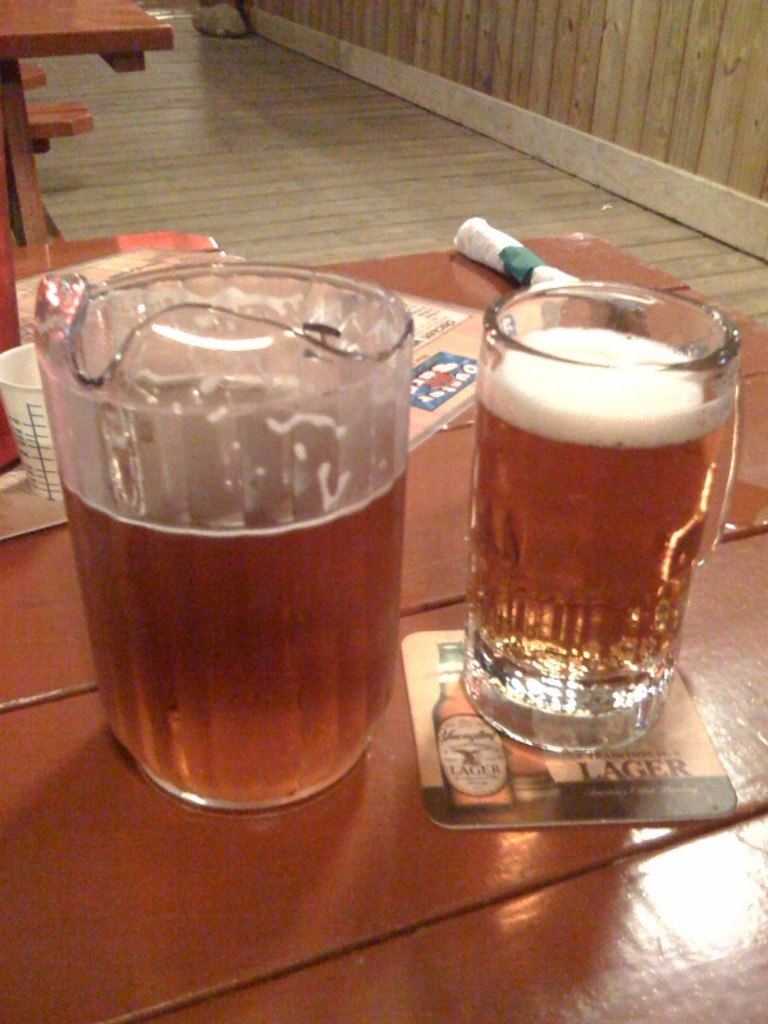Beer: (99, 413, 391, 811), (480, 325, 725, 695)
